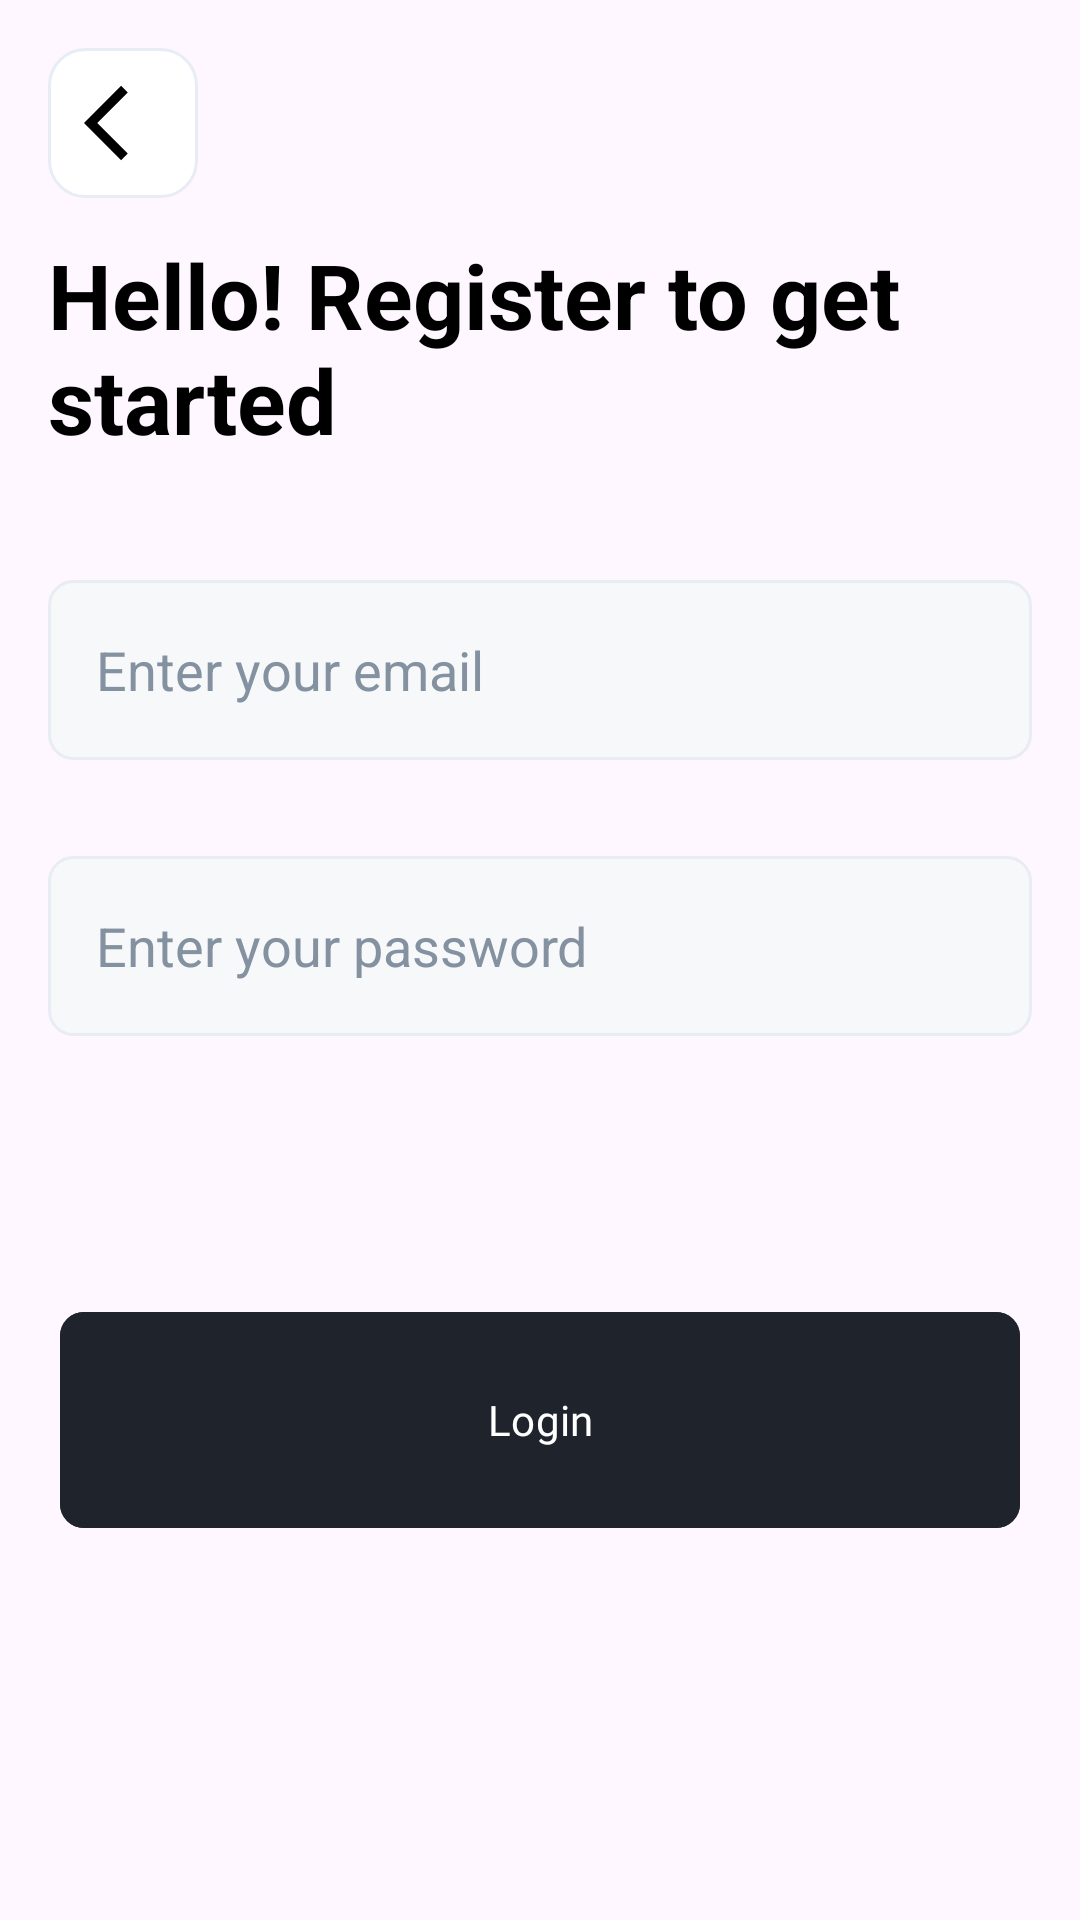

Locate icon controls on the screen. Image size 1080 × 1920, boxes as (x1, y1, x2, y2).
arrow back: (84, 86, 128, 160)
